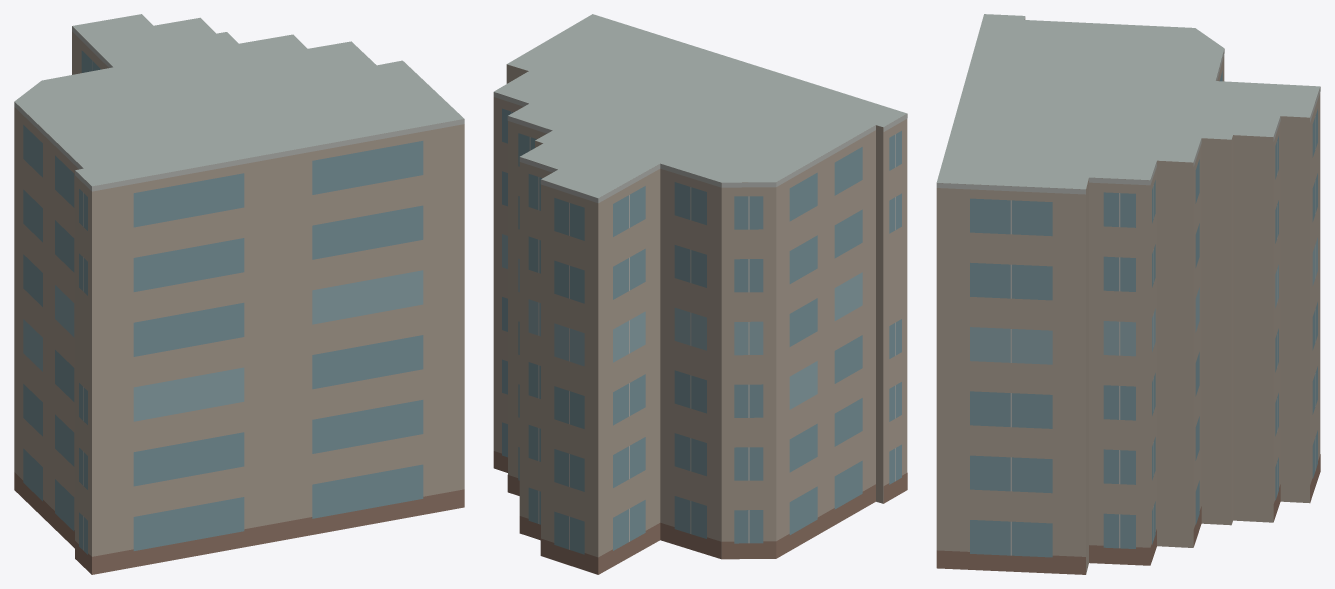
Rendered from survey-upis-32727176.glb.
The picture shows the model from 3 angles, left to right: view 1: azimuth 30°, elevation 25°; view 2: azimuth 150°, elevation 25°; view 3: azimuth 270°, elevation 25°; orthographic projection. The views are drawn at different scales.
Parts seen in each view (by area): view 1: survey-upis-32727176.tmp; view 2: survey-upis-32727176.tmp; view 3: survey-upis-32727176.tmp.
Part boxes in pixels (x1=…): survey-upis-32727176.tmp: x1=14, y1=14, x2=464, y2=574; survey-upis-32727176.tmp: x1=493, y1=14, x2=907, y2=574; survey-upis-32727176.tmp: x1=936, y1=14, x2=1320, y2=574.
Size of the model in its own units: 17.86 by 18.3 by 16.52.
